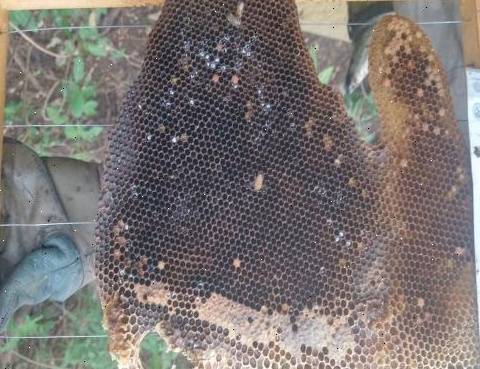cria: (378, 14, 448, 168)
